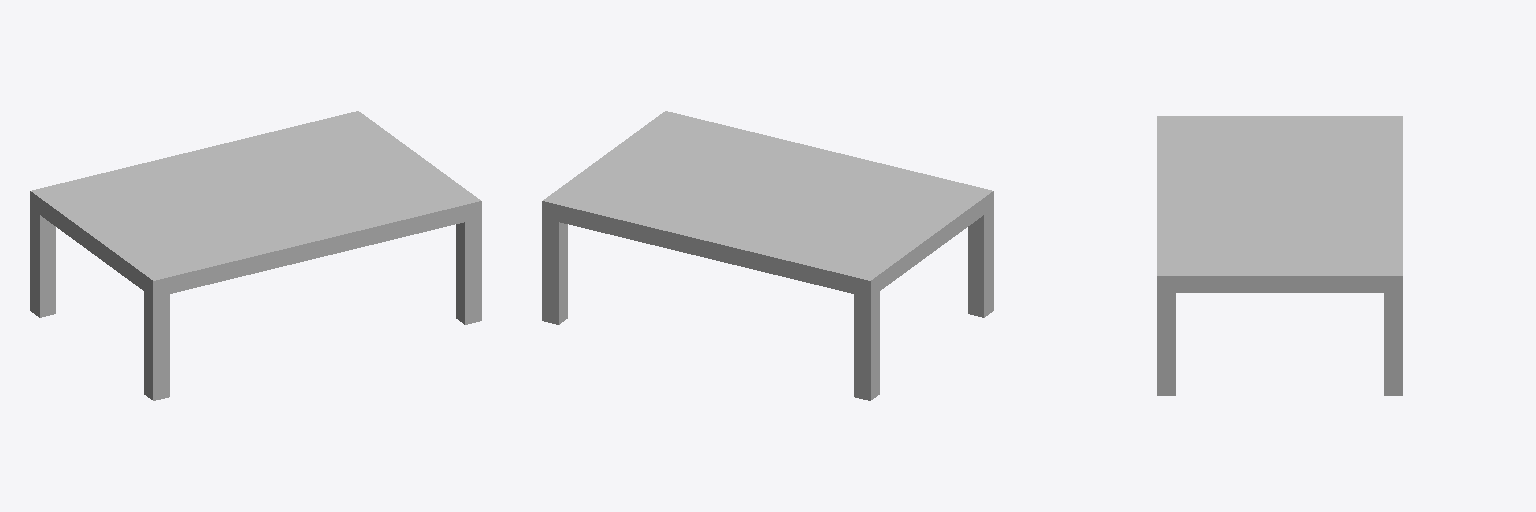
The model's file is table.obj.
The picture shows the model from 3 angles: view 1: azimuth 30°, elevation 25°; view 2: azimuth 150°, elevation 25°; view 3: azimuth 270°, elevation 25°; orthographic projection.
Visible parts, largest first — view 1: object 1; view 2: object 1; view 3: object 1.
Boxes of the visible parts, x1,y1,x2,y2 form: object 1: [30, 111, 481, 400]; object 1: [542, 111, 993, 400]; object 1: [1157, 116, 1402, 395].
Size of the model in its own units: 2 by 0.7 by 1.3.